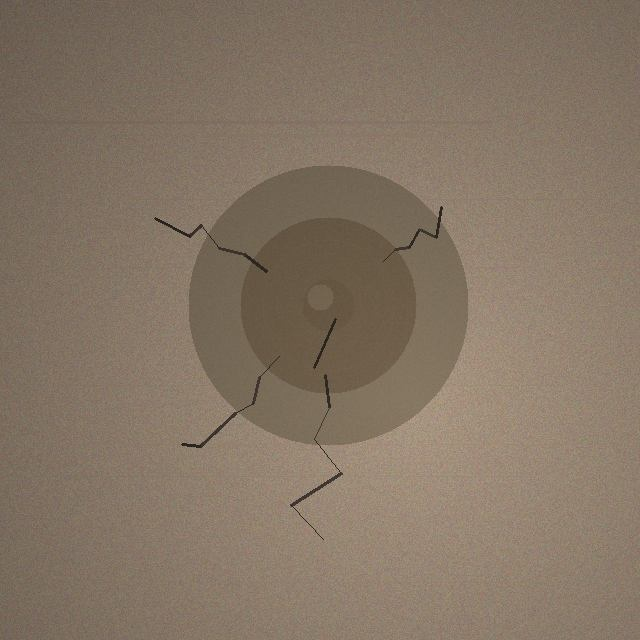crack: (188, 165, 468, 445)
